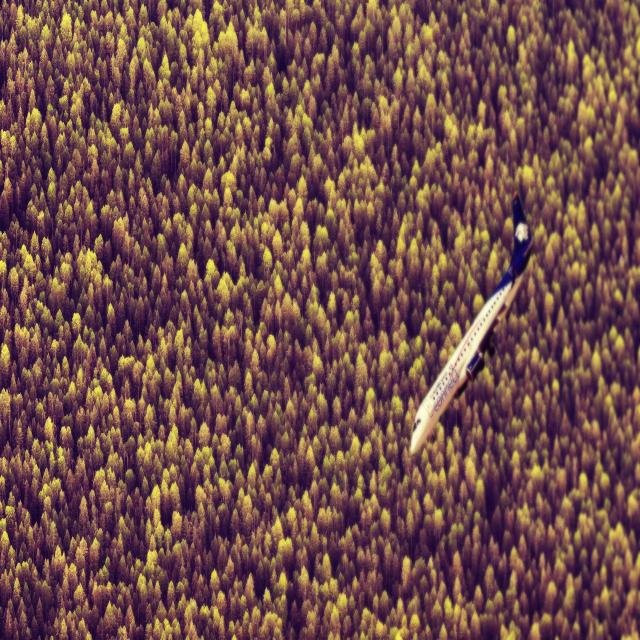airplane: (409, 190, 534, 456)
